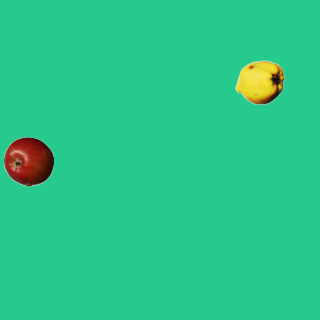Apple Braeburn: (3, 136, 53, 186)
Quince: (234, 57, 284, 107)
